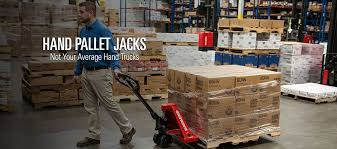Pallet Jack: (115, 72, 281, 148)
